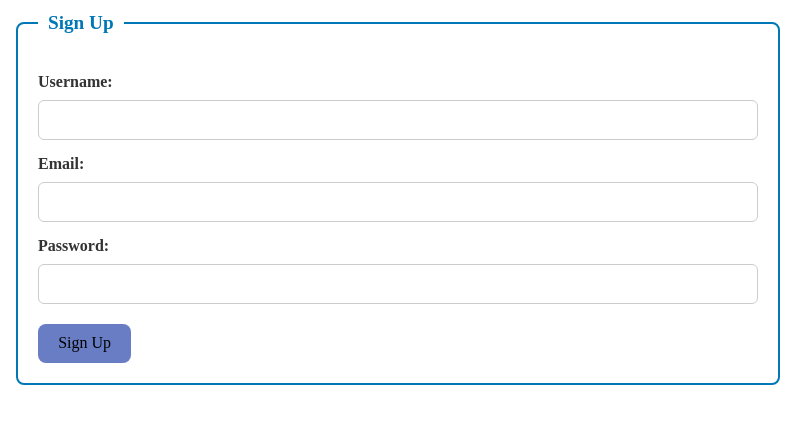
Test case: SignUp Component › displays error message on failed sign up
The image size is (797, 446).
In the field labelled "Username:": (398, 120) [38,100,758,140], type "testuser"
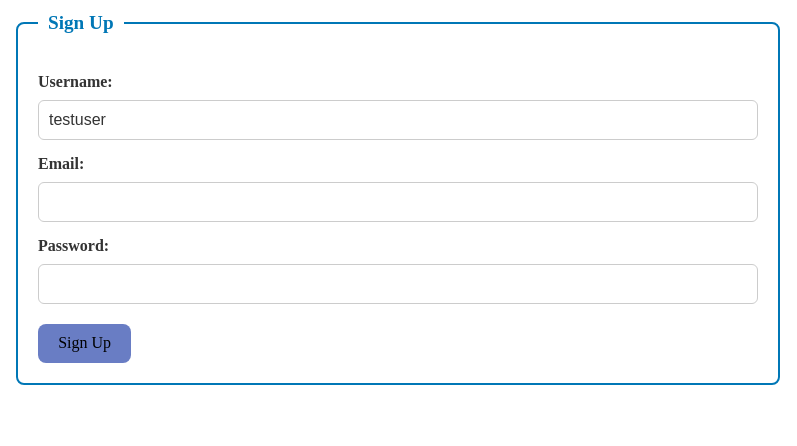
In the field labelled "Email:": (398, 202) [38,182,758,222], type "test@example.com"
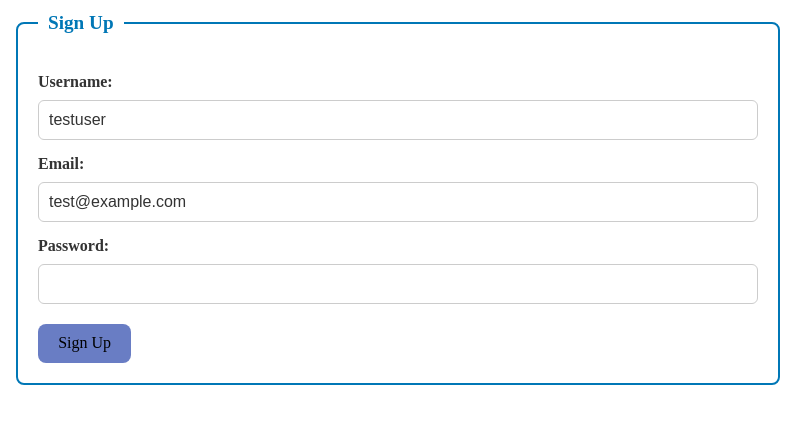
In the password field labelled "Password:": (398, 284) [38,264,758,304], type "password123"
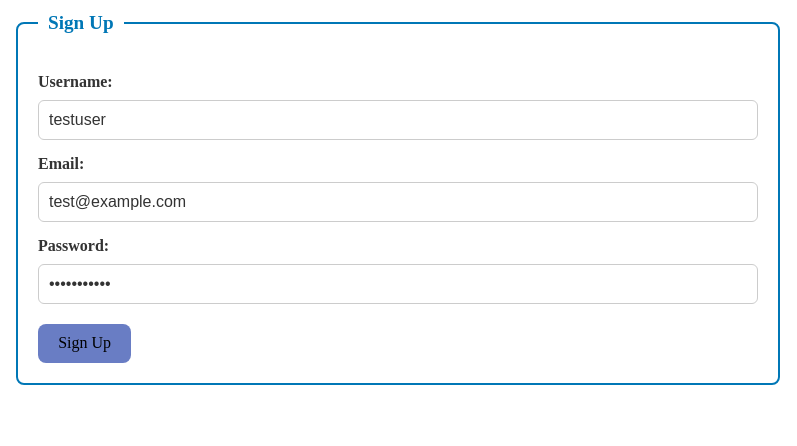
Click the button "Sign Up": (85, 343) [38,324,131,363]
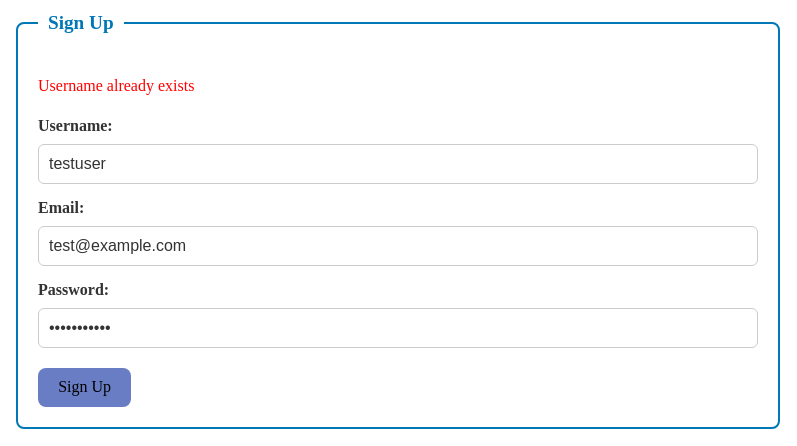
Check: the text "Username already exists" is shown, box [38,77,194,94]
